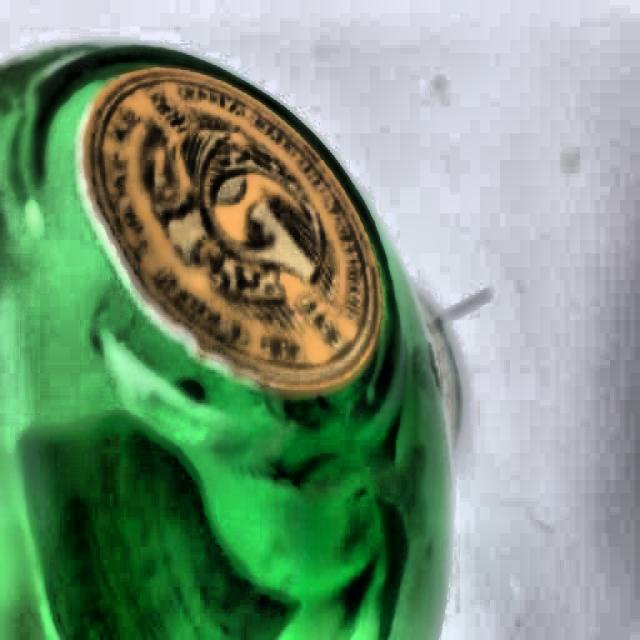glass: (5, 37, 472, 640)
